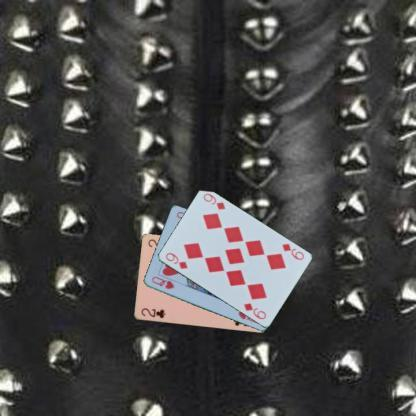2c: (138, 306, 166, 320)
9d: (162, 250, 188, 271), (279, 241, 305, 262)
Qh: (149, 274, 176, 290)
